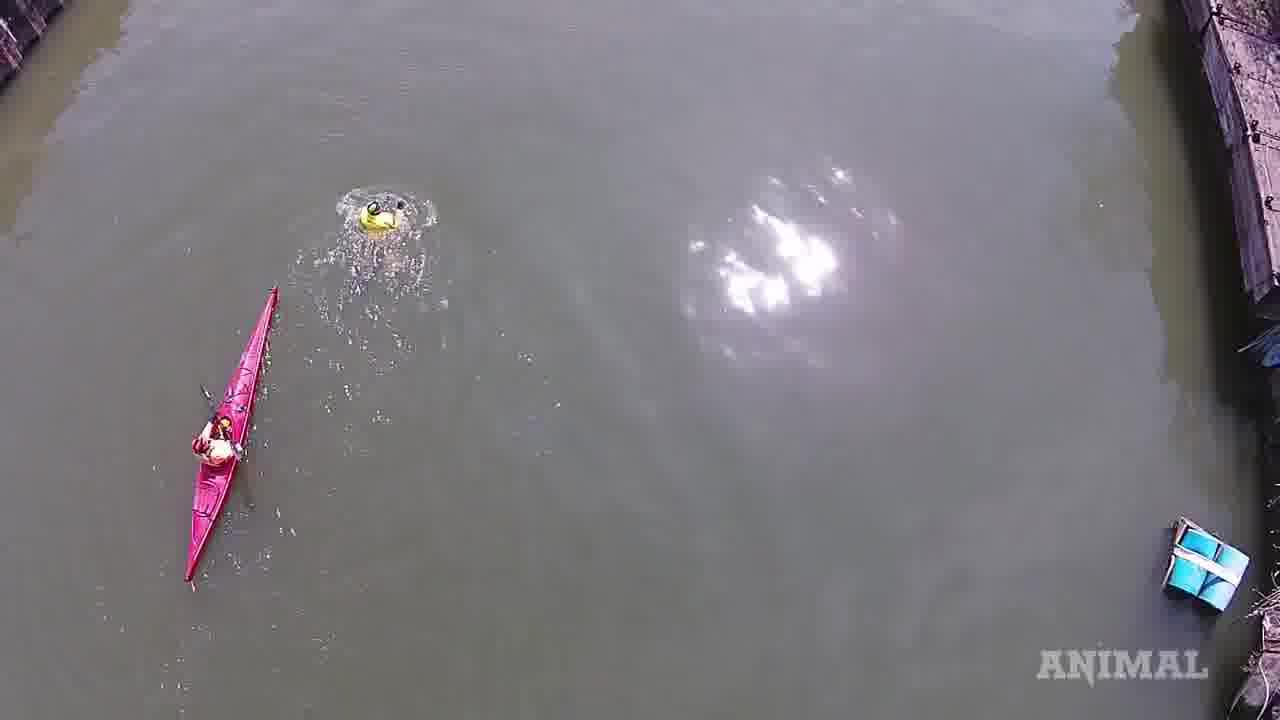human: (346, 176, 430, 257)
